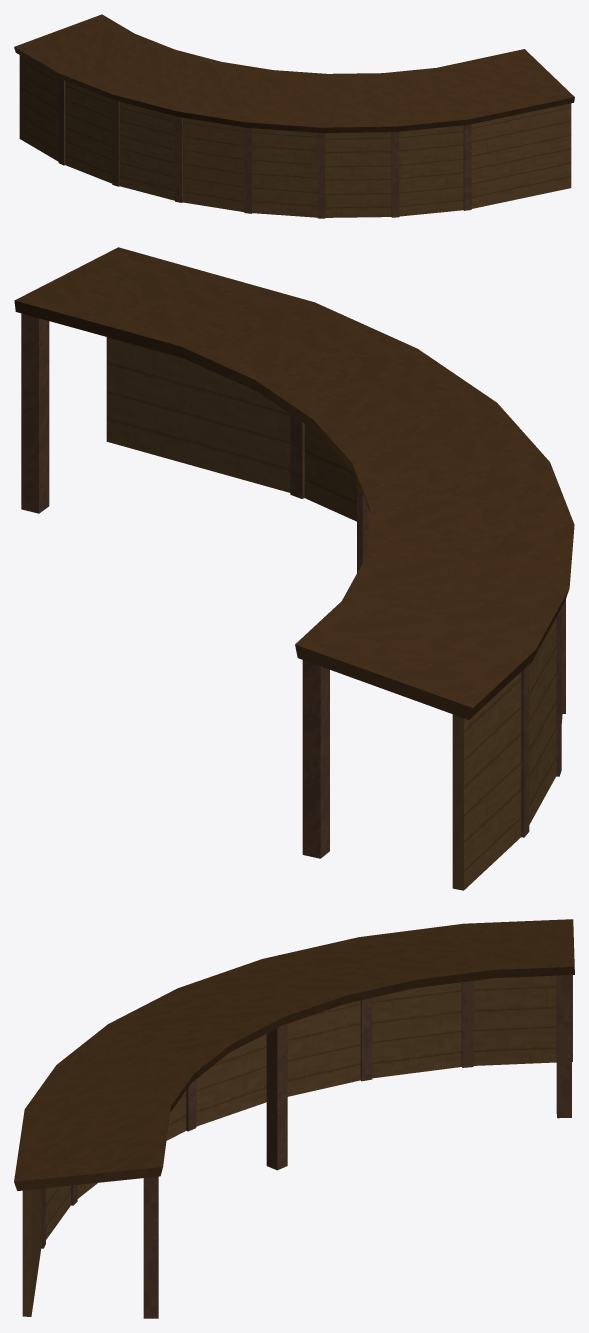
File: L1_Market_P1.fbx
3 renders of one model, top to bottom at view 1: azimuth 30°, elevation 25°; view 2: azimuth 150°, elevation 25°; view 3: azimuth 270°, elevation 25°, orthographic. The views are drawn at different scales.
Parts seen in each view (by area): view 1: L1_Market_P1; view 2: L1_Market_P1; view 3: L1_Market_P1.
Boxes of the visible parts, box(x1,y1,x2,y2) form: L1_Market_P1: box(14, 14, 574, 218); L1_Market_P1: box(14, 247, 574, 890); L1_Market_P1: box(14, 919, 574, 1318).
Size of the model in its own units: 1064 by 289 by 958.
Materials: 1 (1 with a texture image).
